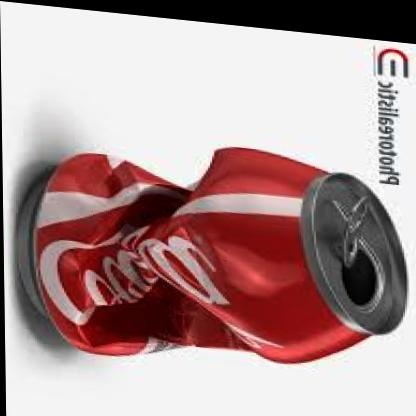trash: (18, 148, 406, 362)
